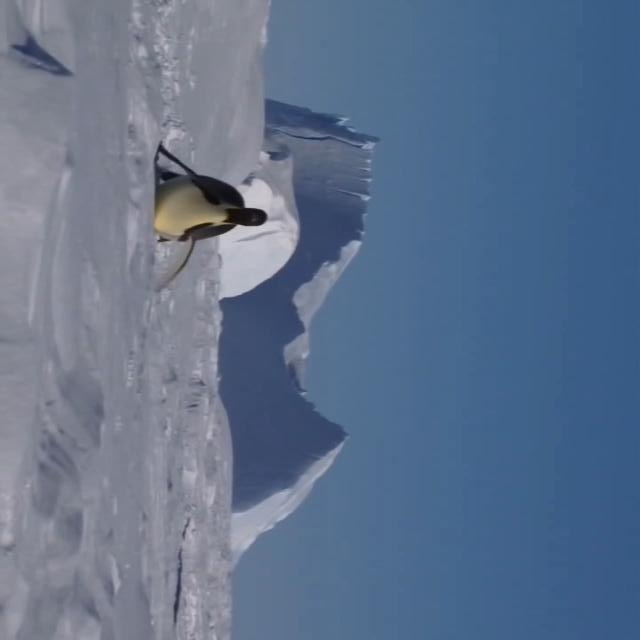penguin: (149, 139, 267, 290)
